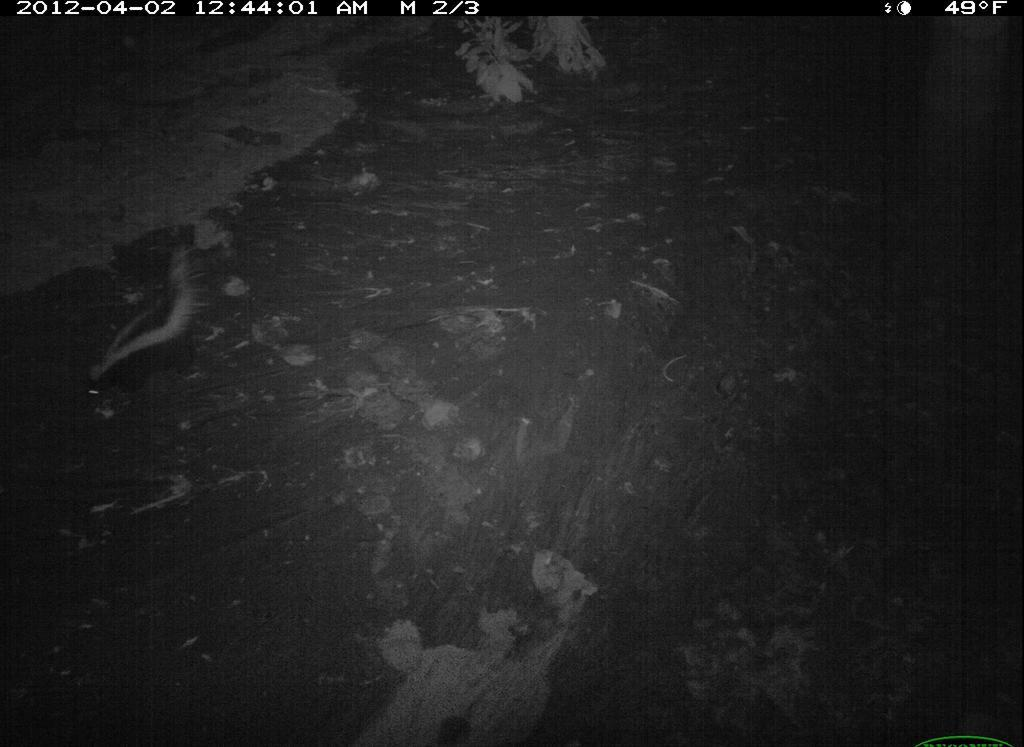skunk: (66, 233, 225, 414)
